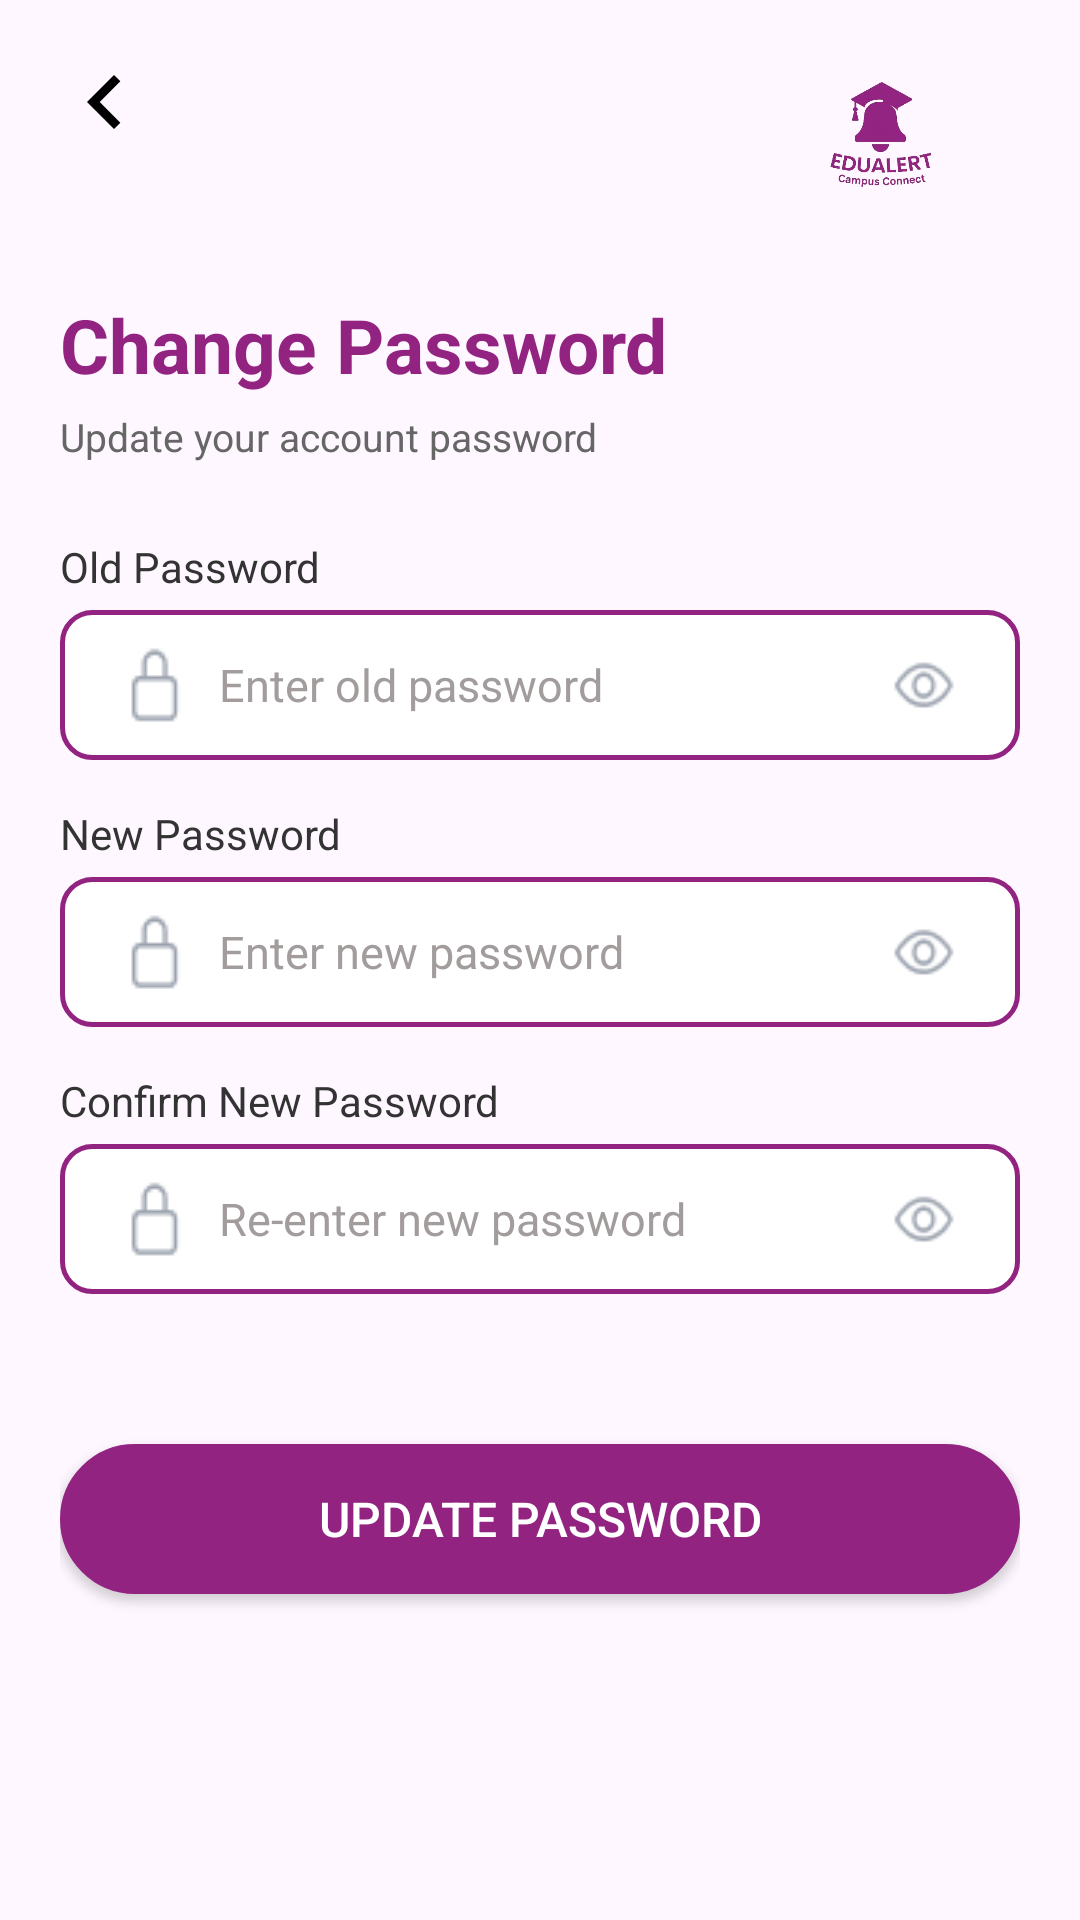

Where to tap for icons on this 1080w x 1920h app screen, as (x,y):
Back: (104,102)
Toggle Confirm New Password Visibility: (923,1219)
Toggle New Password Visibility: (923,952)
Toggle Old Password Visibility: (923,685)
